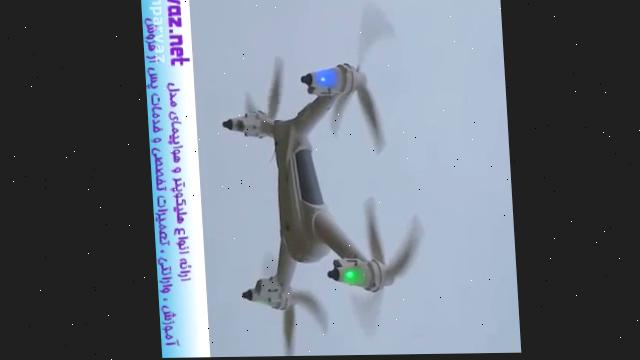drone: (210, 0, 430, 358)
